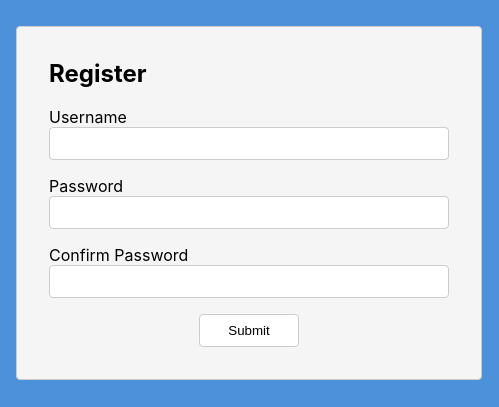
displays error when passwords do not match
Type "testuser" into the field labelled "Username".
click(249, 144); type("testuser")  # box [49, 128, 449, 160]
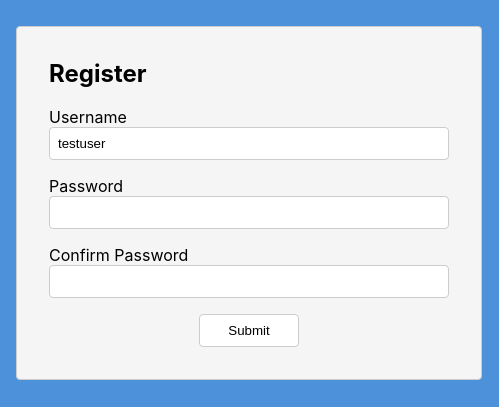
Type "password" into the password field labelled "Password".
click(249, 213); type("password")  # box [49, 196, 449, 230]
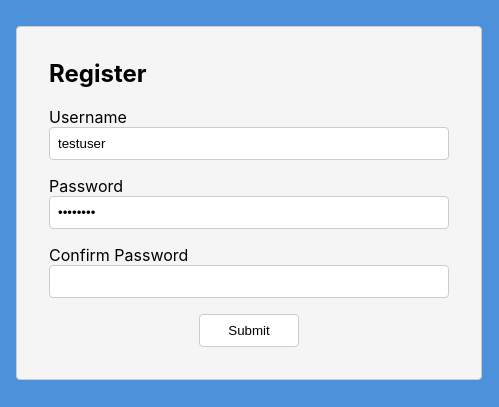
Type "password123" into the password field labelled "Confirm Password".
click(249, 282); type("password123")  # box [49, 266, 449, 298]
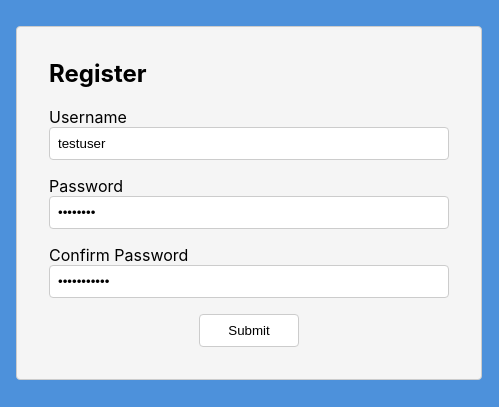
Click the button "Submit".
click(249, 331)  # box [199, 314, 299, 348]
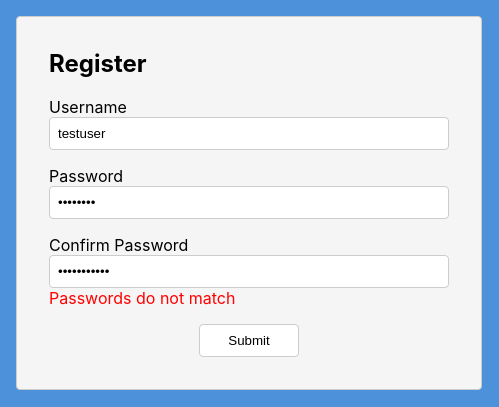
Check: the text "Passwords do not match" is shown, box [49, 288, 235, 308]
